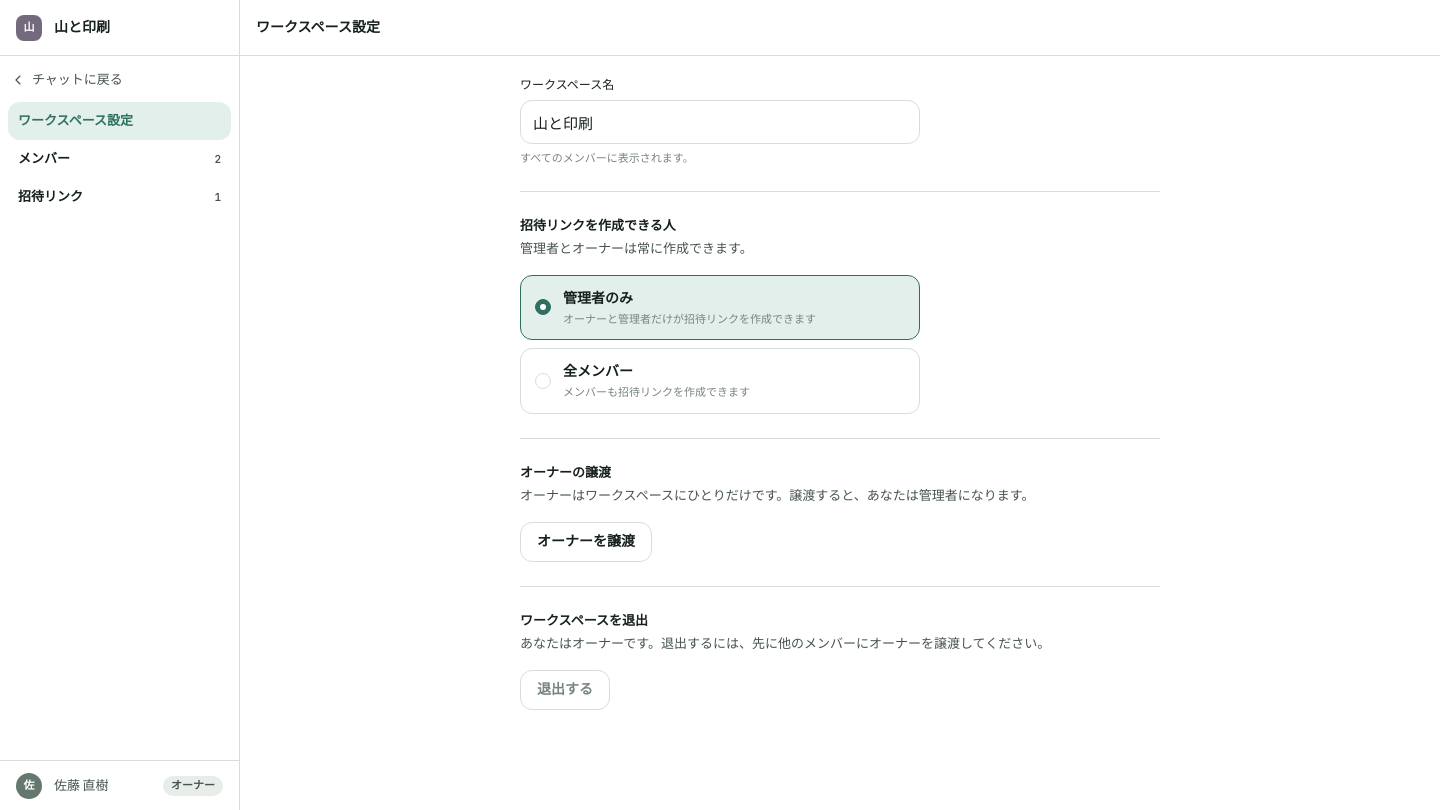
Test: the workspace admin screens › settings › puts the name back when the rename fails
Step 1. Type "!" into the field labelled "ワークスペース名" → (720, 122), box top-left (520, 100), bottom-right (920, 144)
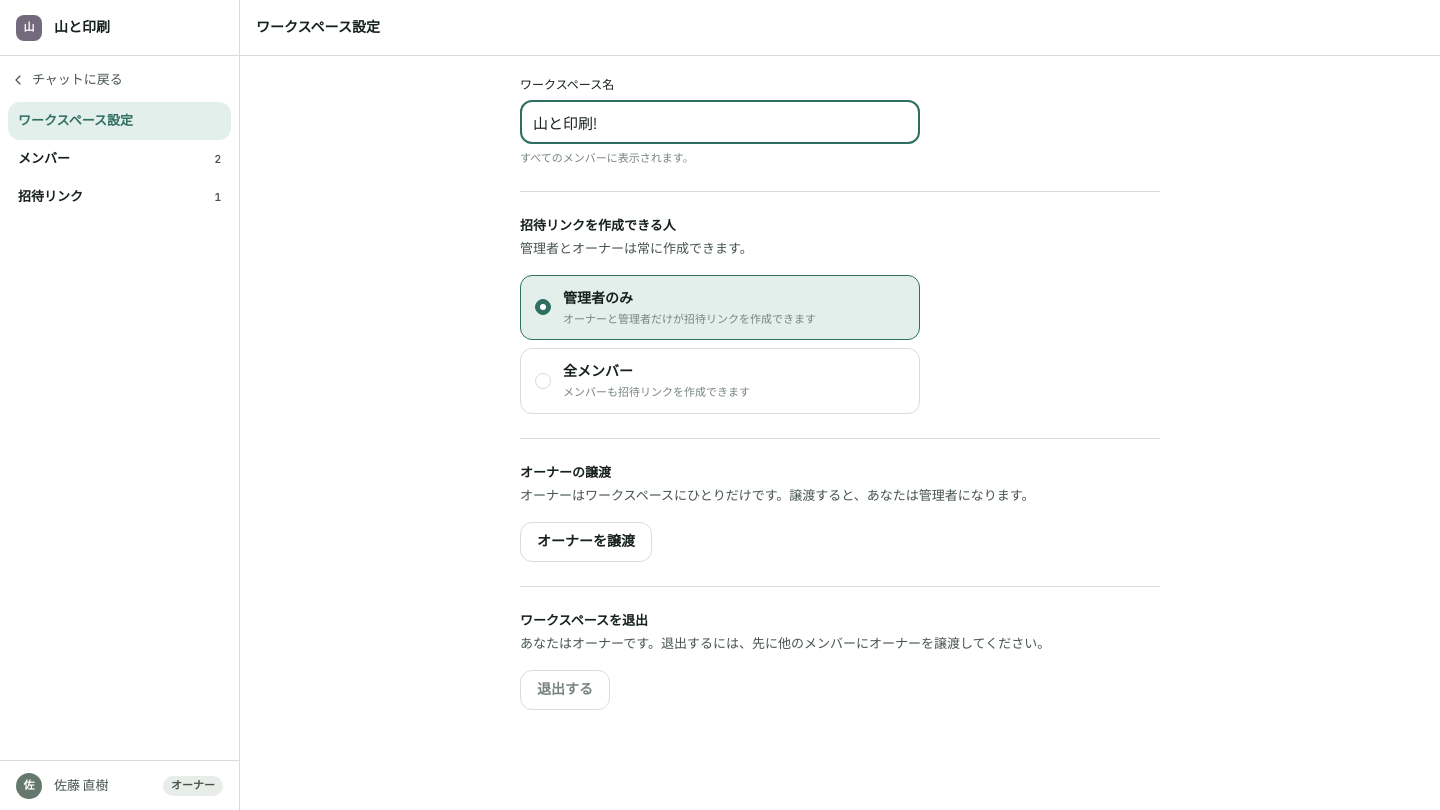
Step 2. Press Tab
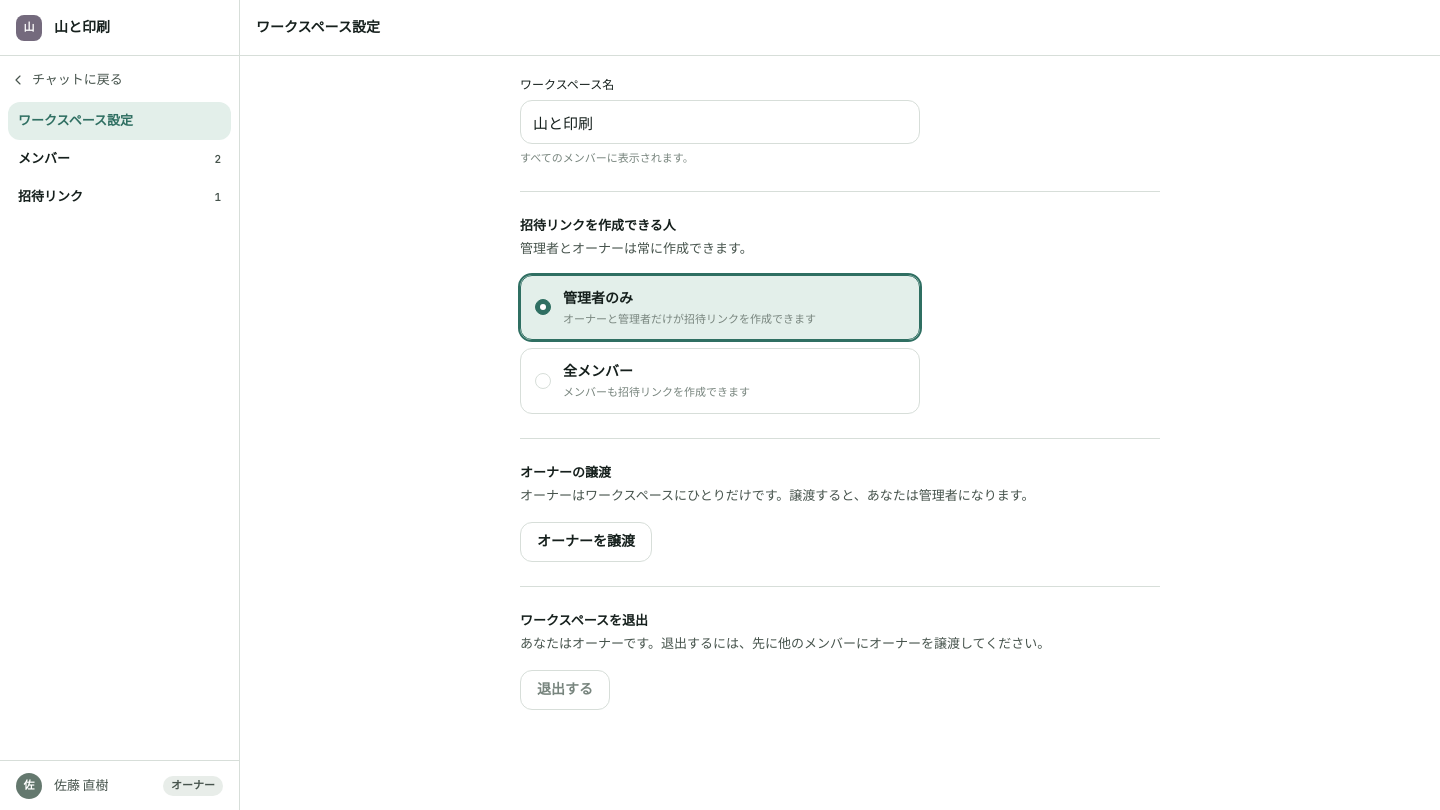
Expected: the field labelled "ワークスペース名" holds "山と印刷", top-left (520, 100), bottom-right (920, 144)
